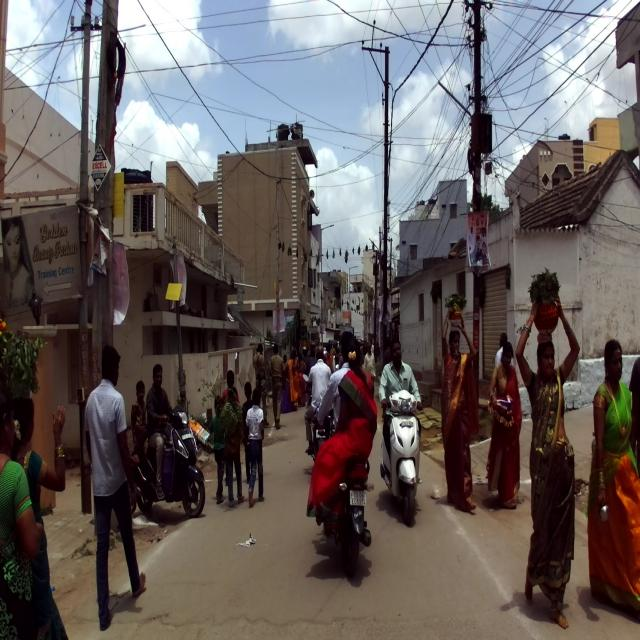motorcycle: (312, 408, 374, 578)
scooter: (132, 403, 206, 518), (379, 390, 422, 526)
